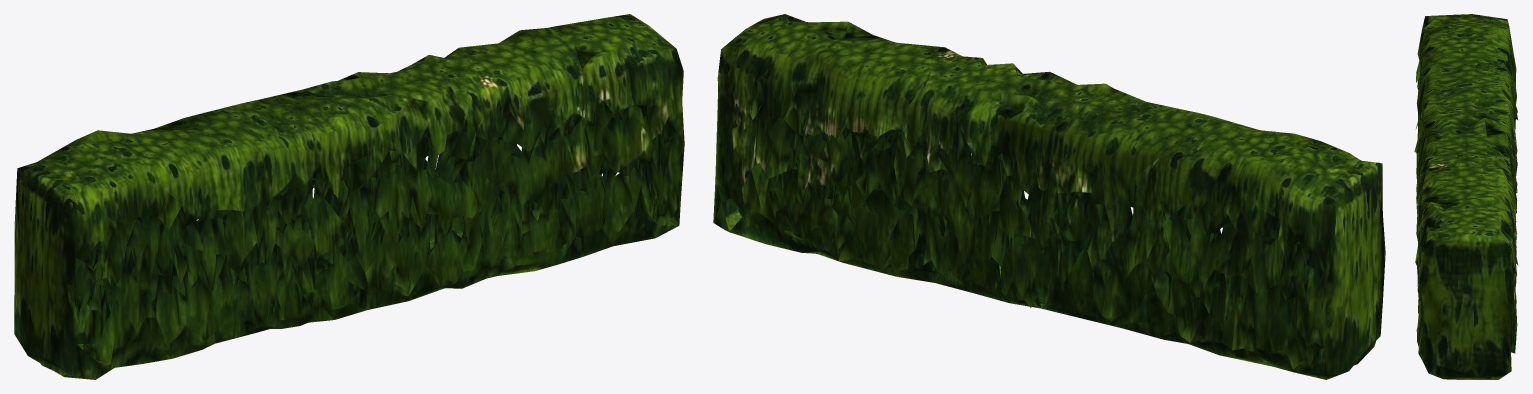
File: hedge-2.glb
3 renders of one model, left to right at view 1: azimuth 30°, elevation 25°; view 2: azimuth 150°, elevation 25°; view 3: azimuth 270°, elevation 25°, orthographic. The views are drawn at different scales.
Visible parts, largest first — view 1: terrain-hedge-2; view 2: terrain-hedge-2; view 3: terrain-hedge-2.
Part boxes in pixels (bbox=[...]): terrain-hedge-2: bbox=[14, 14, 684, 379]; terrain-hedge-2: bbox=[713, 14, 1385, 379]; terrain-hedge-2: bbox=[1414, 14, 1518, 379].
Bounding box in the file's own units: 0.95 × 0.3 × 0.18.
1 material, 1 textured.
